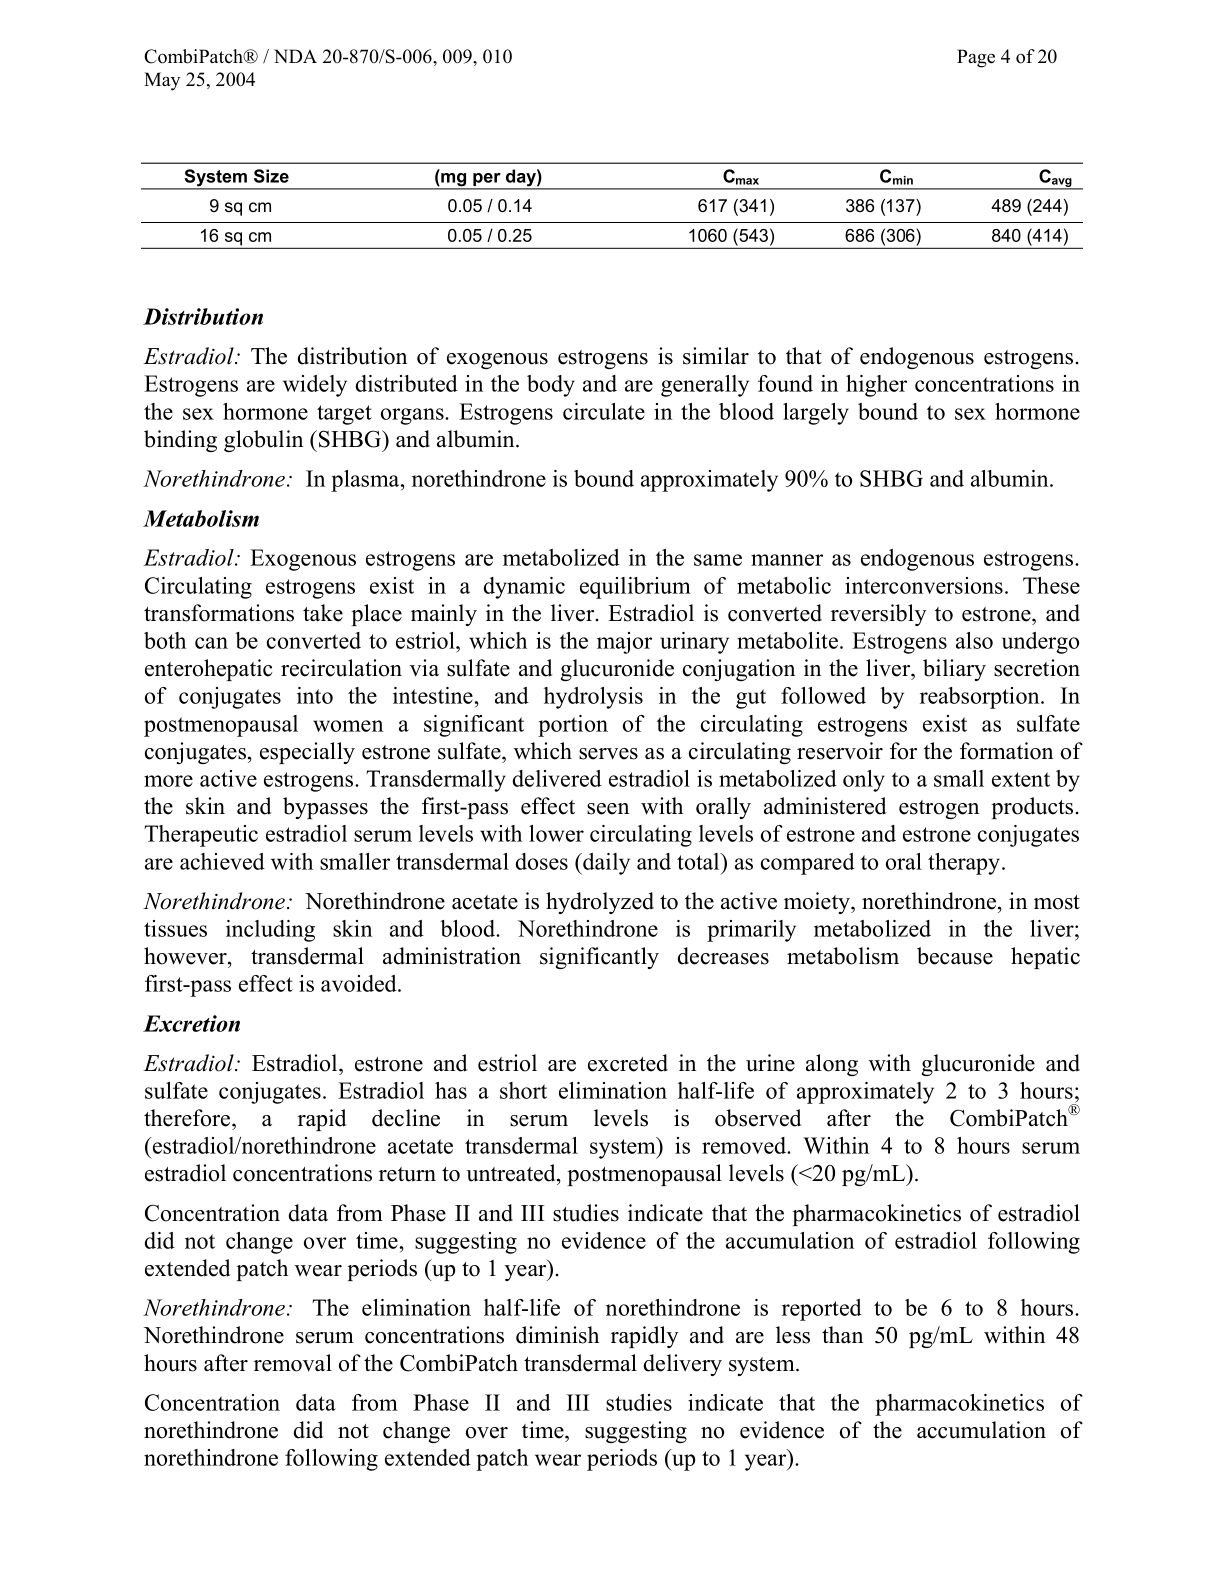partial_lined: (139, 162, 1084, 249)
